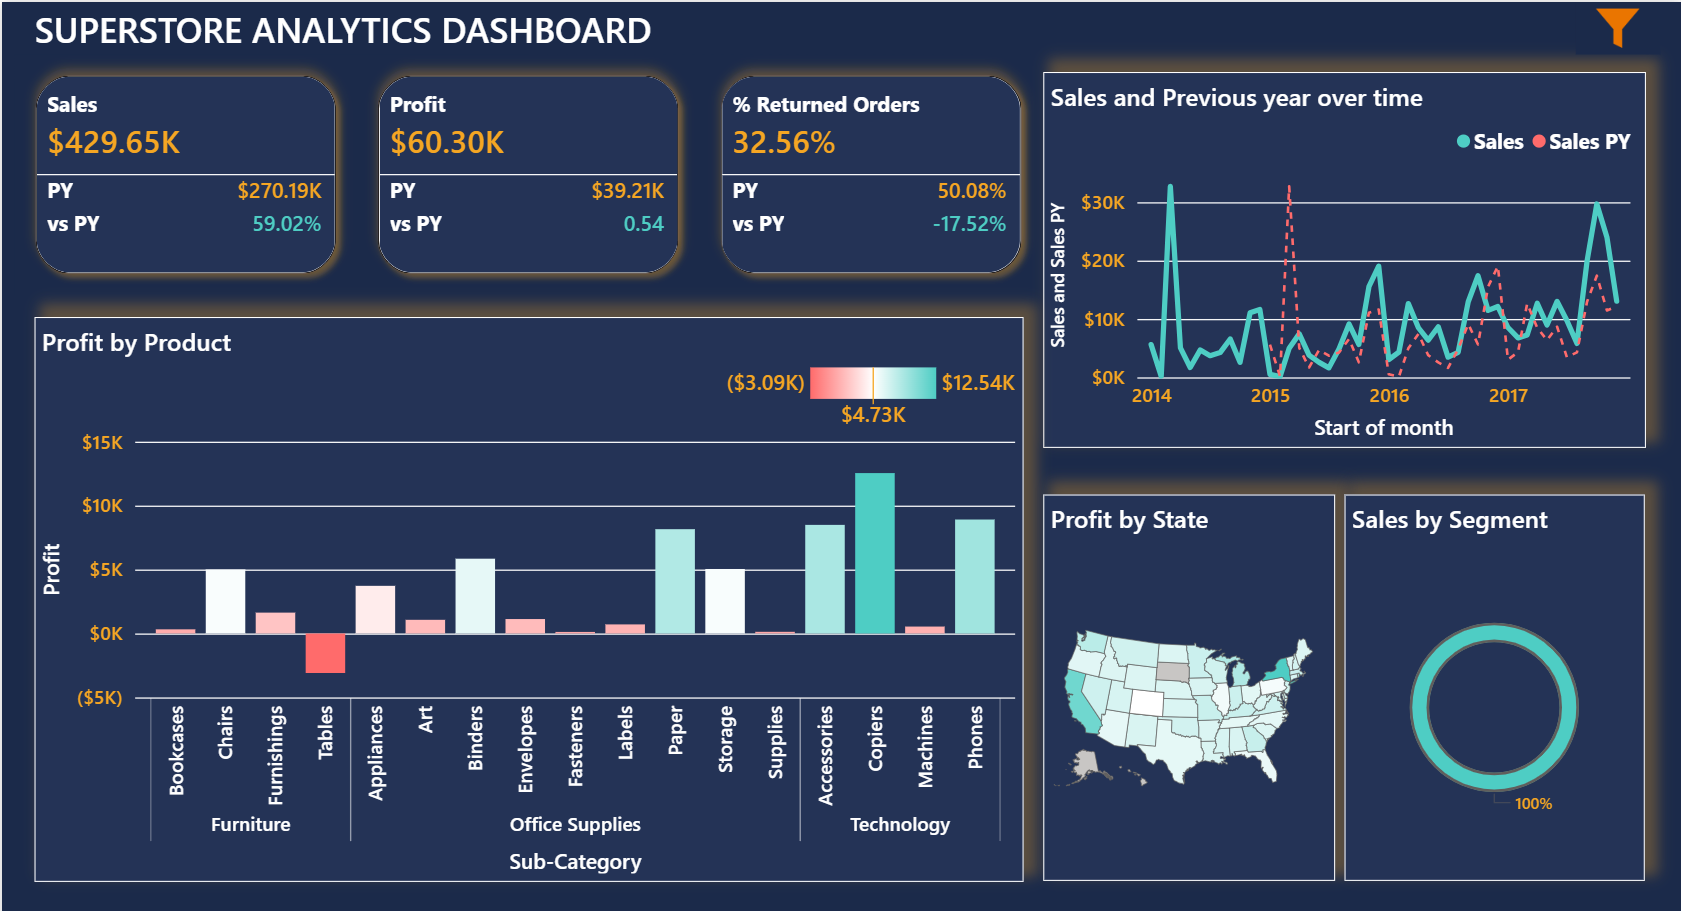

The page's visual inventory and layout, read from the dashboard file:
{"tool":"powerbi","page":{"name":"Page 1","canvas":[1280,720],"ordinal":0},"visuals":[{"type":"cardVisual","fields":{"Data":["Key Measures.Sales","Key Measures.Profit","Key Measures.% Returned Orders"]},"box":[9.3,39.5,783.7,183.7],"z":0},{"type":"group","id":"g1","title":"Slicer","box":[873.7,111.3,378.9,507.6],"z":0,"group":"g3"},{"type":"shape","box":[873.7,111.3,378.9,507.6],"z":0,"group":"g1"},{"type":"slicer","fields":{"Values":["Orders.Customer Name"]},"box":[912.7,467,300.8,88.8],"z":0,"group":"g2"},{"type":"shape","box":[0,0,1280.3,39.8],"z":1000},{"type":"image","box":[1199.4,0,65.1,40.5],"z":1000,"group":"g3"},{"type":"image","title":"Image3","box":[1158,126.7,76.6,43.4],"z":1000,"group":"g1"},{"type":"slicer","fields":{"Values":["Date Table.Date"]},"box":[913.6,283.4,297.8,82.2],"z":1000,"group":"g2"},{"type":"lineChart","title":"Sales and Previous year over time","fields":{"Y":["Key Measures.Sales","Key Measures.Sales PY"],"Category":["Date Table.Start of month"]},"box":[793,53.5,459.3,286],"z":2000},{"type":"group","id":"g2","title":"Group 1","box":[912.7,190.8,300.8,364.4],"z":2000,"group":"g1"},{"type":"slicer","fields":{"Values":["Orders.Segment"]},"box":[913.6,190.8,297.8,82.2],"z":2000,"group":"g2"},{"type":"columnChart","title":"Profit  by Product","fields":{"Category":["Orders.Category","Orders.Sub-Category"],"Y":["Key Measures.Profit"]},"box":[24.4,239.5,753.5,430.2],"z":3000},{"type":"slicer","fields":{"Values":["Orders.Country"]},"box":[914.6,377,297.8,79.1],"z":3000,"group":"g2"},{"type":"shapeMap","title":"Profit  by  State","fields":{"Category":["Orders.State"],"Value":["Key Measures.Profit"]},"box":[793,375.6,222.1,294.2],"z":4000},{"type":"donutChart","title":"Sales by Segment","fields":{"Y":["Key Measures.Profit"],"Category":["Orders.Segment"]},"box":[1023.3,375.6,229.1,294.2],"z":5000},{"type":"group","id":"g3","title":"slicer panel","box":[873.7,0,390.8,618.9],"z":6000}]}

Visuals, with their boxes on the page's 1280x720 design canvas (x1, y1, x2, y2). These are canvas units, not pixel positions in the 1681x911 screenshot, which may show the page scaled, cropped or inside an application window:
cardVisual - Key Measures.Sales x Key Measures.Profit: bbox=(9, 40, 793, 223)
"Slicer" group: bbox=(874, 111, 1253, 619)
shape: bbox=(874, 111, 1253, 619)
slicer - Orders.Customer Name: bbox=(913, 467, 1214, 556)
shape: bbox=(0, 0, 1280, 40)
image: bbox=(1199, 0, 1264, 40)
"Image3" image: bbox=(1158, 127, 1235, 170)
slicer - Date Table.Date: bbox=(914, 283, 1211, 366)
"Sales and Previous year over time" lineChart: bbox=(793, 54, 1252, 340)
"Group 1" group: bbox=(913, 191, 1214, 555)
slicer - Orders.Segment: bbox=(914, 191, 1211, 273)
"Profit  by Product" columnChart: bbox=(24, 240, 778, 670)
slicer - Orders.Country: bbox=(915, 377, 1212, 456)
"Profit  by  State" shapeMap: bbox=(793, 376, 1015, 670)
"Sales by Segment" donutChart: bbox=(1023, 376, 1252, 670)
"slicer panel" group: bbox=(874, 0, 1264, 619)
